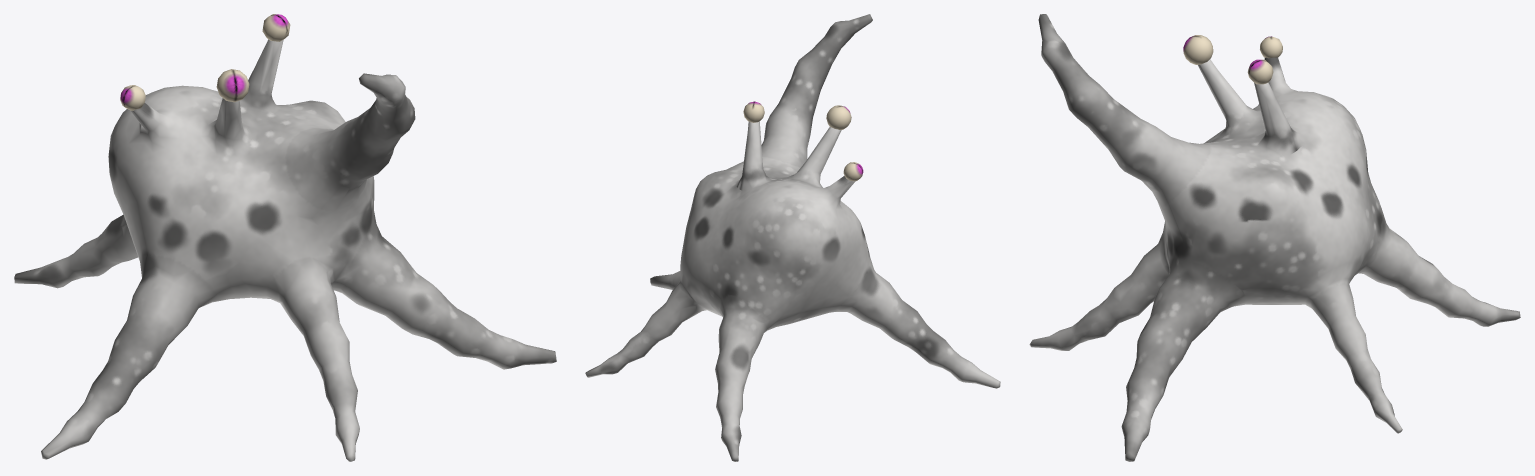
Rendered from AmorphousLegs.fbx.
3 renders of one model, left to right at view 1: azimuth 30°, elevation 25°; view 2: azimuth 150°, elevation 25°; view 3: azimuth 270°, elevation 25°, orthographic. The views are drawn at different scales.
Visible parts, largest first — view 1: AmorphousLegs; view 2: AmorphousLegs; view 3: AmorphousLegs.
Part boxes in pixels (bbox=[...]): AmorphousLegs: bbox=[14, 14, 556, 461]; AmorphousLegs: bbox=[585, 14, 1000, 461]; AmorphousLegs: bbox=[1029, 14, 1520, 461].
Size of the model in its own units: 1 by 0.7458 by 0.9642.
Materials: 2 (2 with a texture image).
